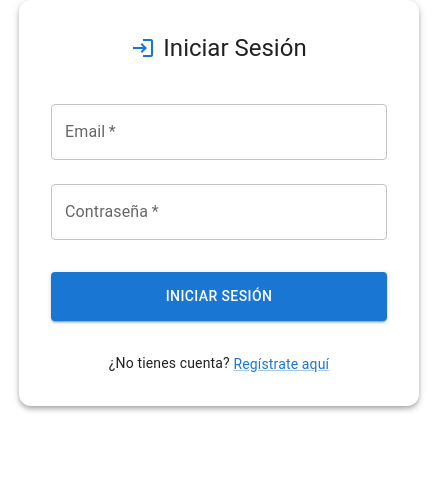
Test case: Login Component › valida campos vacíos
Click the button "Iniciar Sesión": {"x": 219, "y": 296} [51,272,387,320]
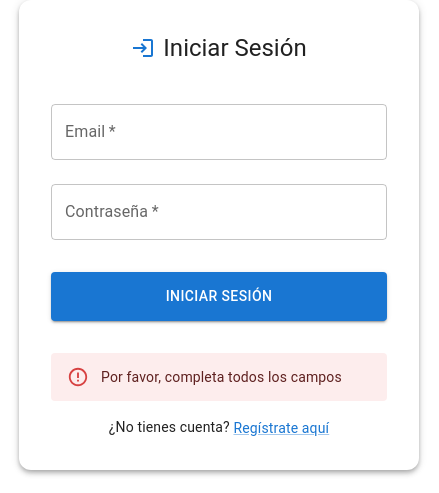
Result: the text "Por favor, completa todos los campos" is shown at [101,368,342,384]
